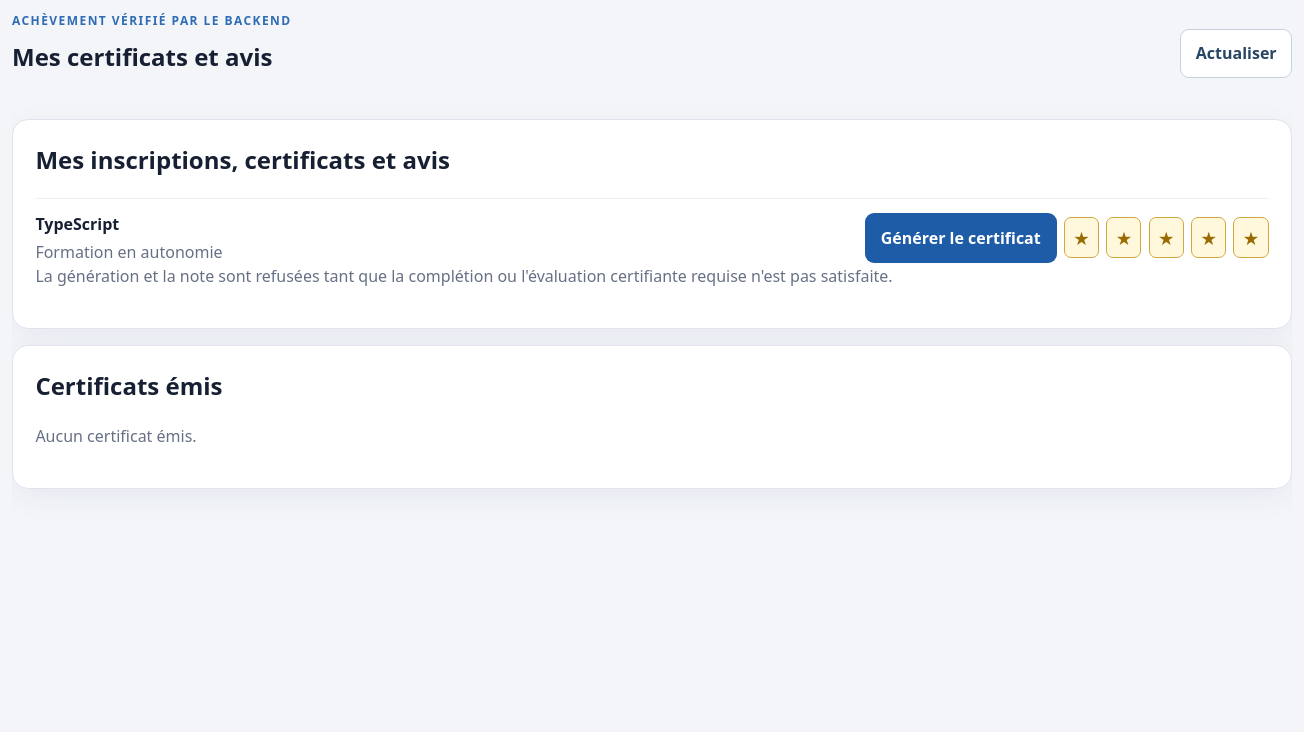
Test: Phase 10 Certificate and Feedback UI › shows learner generation and five immutable rating choices
Expected: the button "Générer le certificat" is shown, [865, 213, 1057, 263]
Click the button named "Noter 5 étoiles" at (1251, 238), box [1233, 217, 1269, 258]
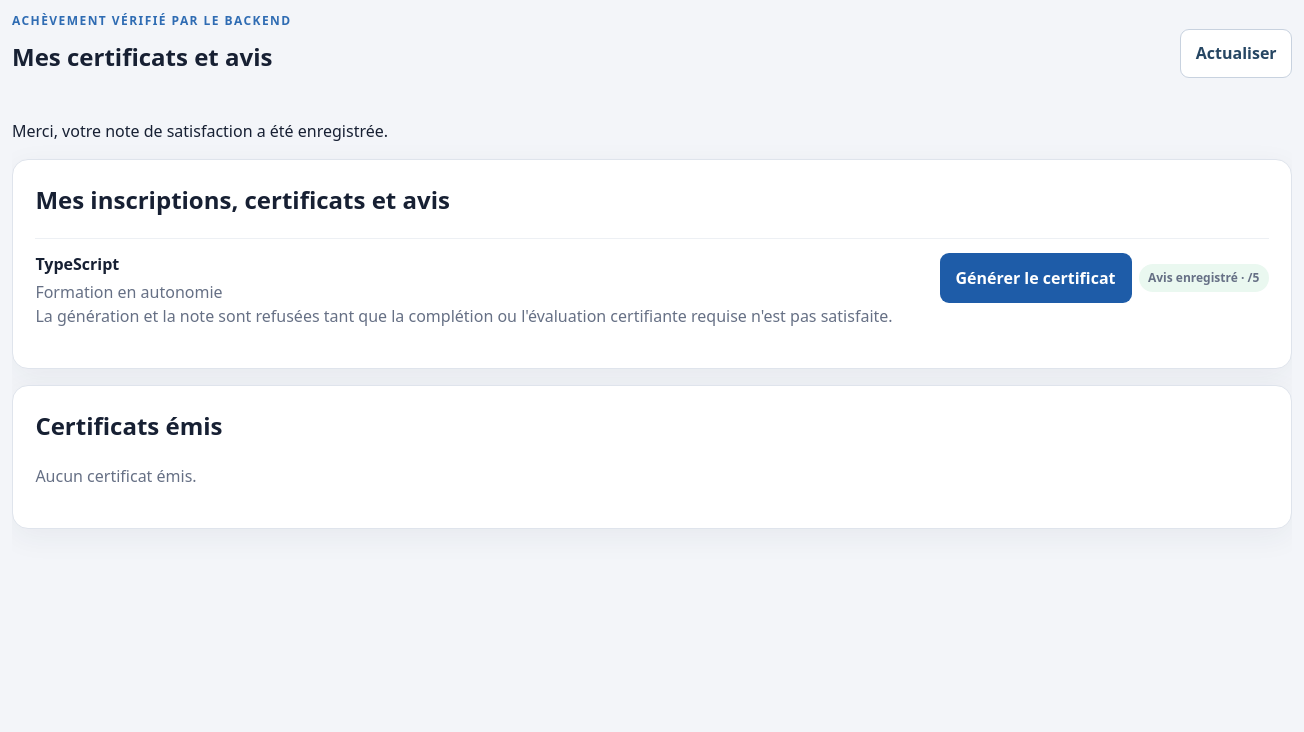
Now the text "Merci, votre note de satisfaction a été enregistrée." is shown, box [12, 120, 388, 142]
